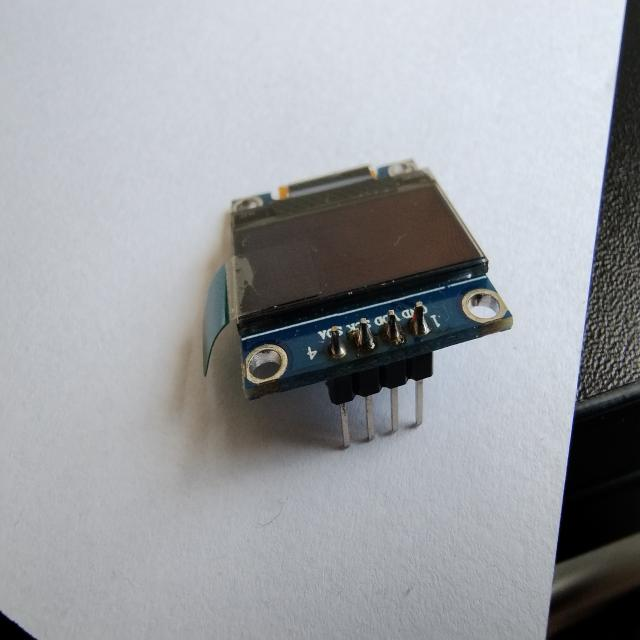oled: (189, 155, 514, 463)
